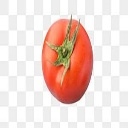tomato: (42, 19, 94, 104)
